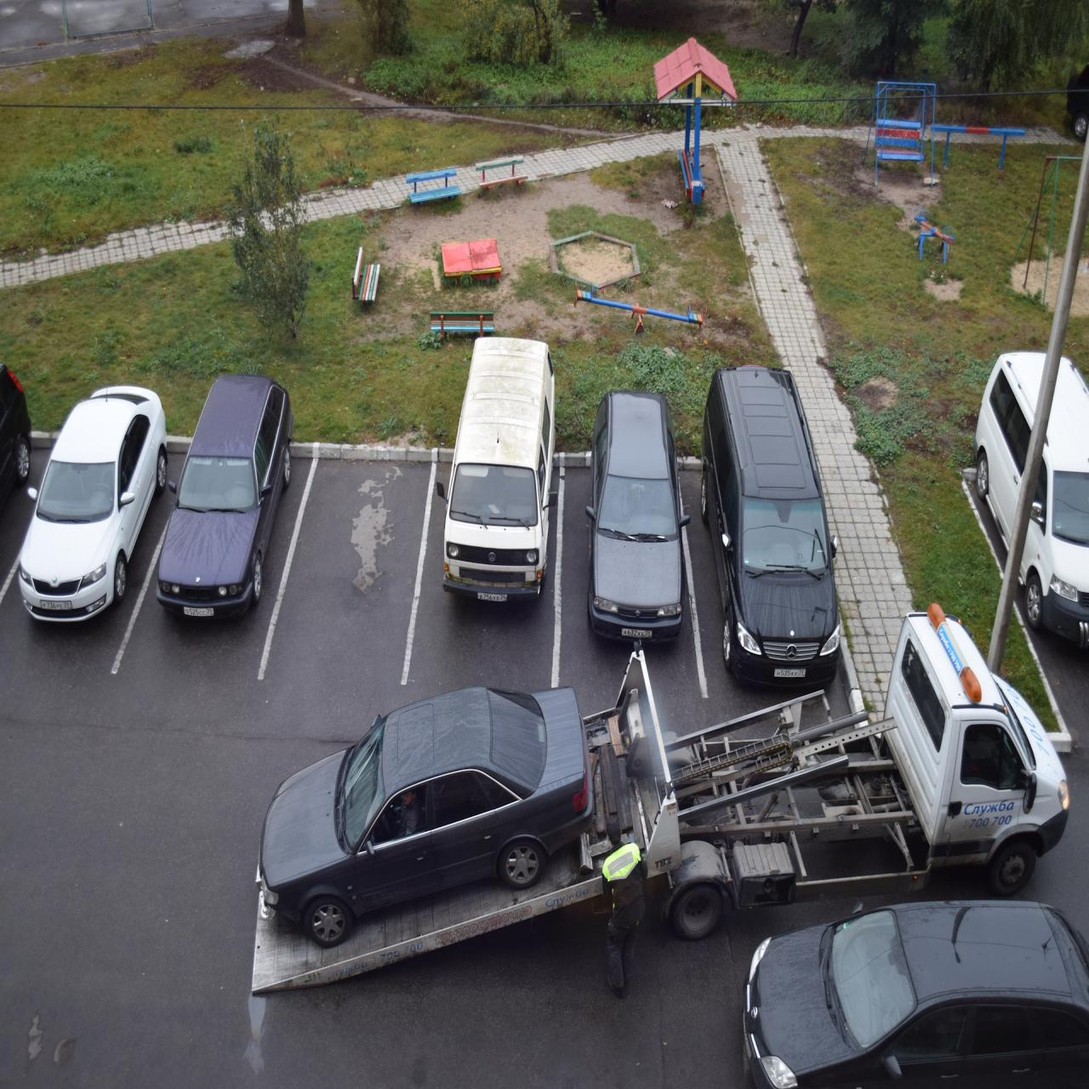cars: (6, 385, 146, 655), (158, 398, 287, 679), (424, 410, 559, 665), (699, 460, 838, 694), (567, 446, 697, 684)
empty: (292, 436, 413, 670)
